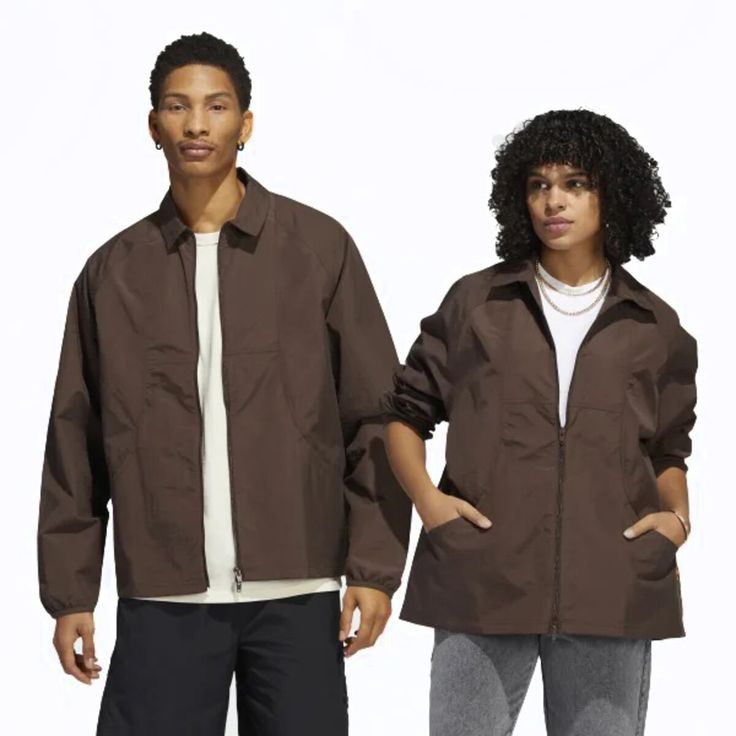nylon: (37, 164, 700, 640)
